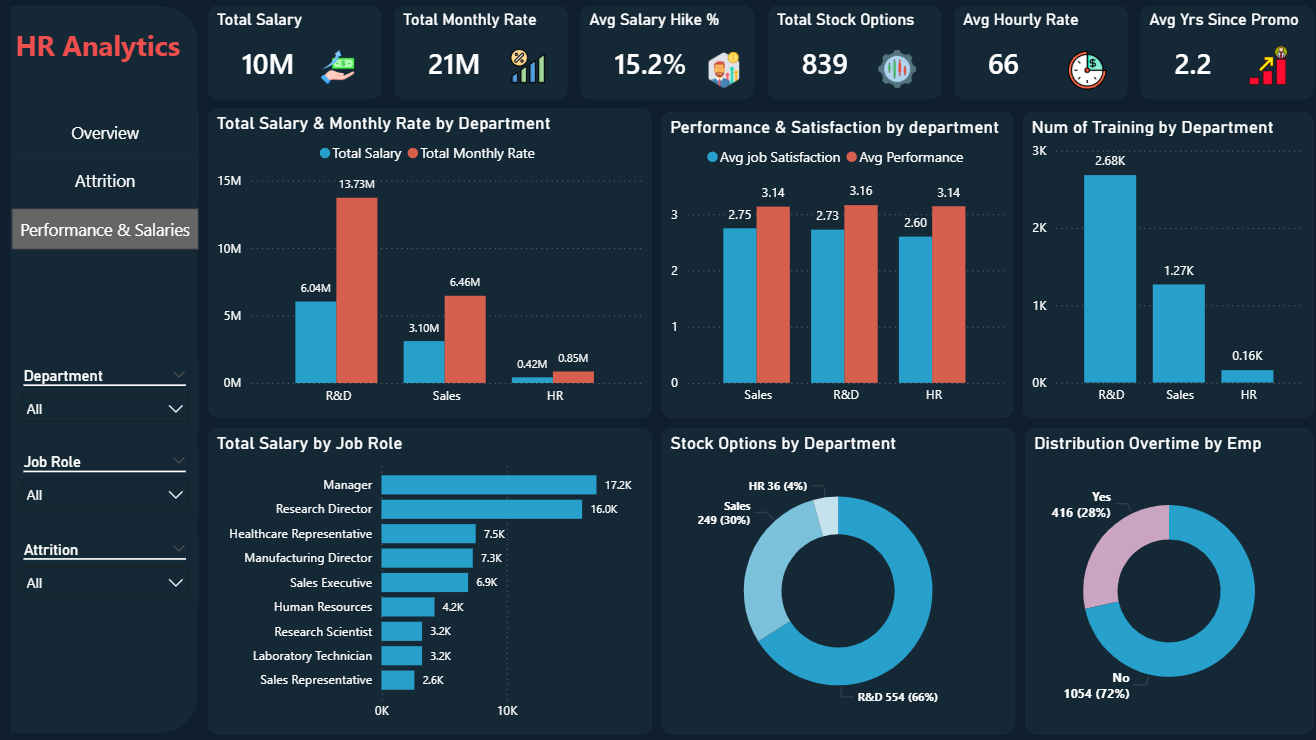

What the dashboard file says about the page in this screenshot:
{"tool":"powerbi","page":{"name":"Performance & Salaries","canvas":[1280,720],"ordinal":2},"visuals":[{"type":"cardVisual","title":"Total Salary","fields":{"Data":["_Measures 2.Total Salary"]},"box":[201.4,8.5,167.8,90],"z":0,"group":"g1"},{"type":"clusteredColumnChart","title":"Total Salary & Monthly Rate by Department","fields":{"Category":["HR.Department"],"Y":["_Measures 2.Total Salary","_Measures 2.Total Monthly Rate"]},"box":[201.2,108,428.4,299.3],"z":0},{"type":"cardVisual","title":"Total Monthly Rate","fields":{"Data":["_Measures 2.Total Monthly Rate"]},"box":[381.5,8.5,167.8,90],"z":1000,"group":"g1"},{"type":"shape","box":[11.2,8.8,181.2,702.5],"z":1000},{"type":"cardVisual","title":"Avg Salary Hike %","fields":{"Data":["_Measures 2.Avg Salary Hike %"]},"box":[561.6,8.5,167.8,90],"z":2000,"group":"g1"},{"type":"textbox","box":[10.9,22.9,171.4,61.6],"z":2000},{"type":"cardVisual","title":"Total Stock Options","fields":{"Data":["CountNonNull(HR.Stock Option Level)"]},"box":[741.7,8.5,167.8,90],"z":3000,"group":"g1"},{"type":"actionButton","box":[12.1,111.1,181.1,39.8],"z":3000},{"type":"cardVisual","title":"Avg Hourly Rate","fields":{"Data":["Avg(HR.Hourly Rate)"]},"box":[921.7,8.5,167.8,90],"z":4000,"group":"g1"},{"type":"actionButton","box":[12.1,156.9,181.1,39.8],"z":4000},{"type":"cardVisual","title":"Avg Yrs Since Promo","fields":{"Data":["_Measures 2.Avg Years Since Last Promotion"]},"box":[1101.8,8.5,168,90.5],"z":5000,"group":"g1"},{"type":"actionButton","box":[12.1,204,181.1,39.8],"z":5000},{"type":"slicer","fields":{"Values":["HR.Department"]},"box":[10.9,352.5,182.3,64],"z":6000},{"type":"slicer","fields":{"Values":["HR.Job Role"]},"box":[10.9,435.8,182.3,64],"z":7000},{"type":"slicer","fields":{"Values":["HR.Attrition"]},"box":[10.9,520.3,182.3,64],"z":8000},{"type":"donutChart","title":"Stock Options by Department","fields":{"Category":["HR.Department"],"Y":["CountNonNull(HR.Stock Option Level)"]},"box":[639.5,416,341.5,295.5],"z":9000},{"type":"clusteredColumnChart","title":"Performance & Satisfaction by department","fields":{"Category":["HR.Department"],"Y":["_Measures.Avg JS","_Measures 2.Avg Performance Rating"]},"box":[639.5,110.5,340.2,295.5],"z":10000},{"type":"barChart","title":"Total Salary by Job Role","fields":{"Category":["HR.Job Role"],"Y":["_Measures 2.Avg Monthly Income"]},"box":[201.2,416,428.4,295.5],"z":11000},{"type":"group","id":"g1","title":"Group 1","box":[201.4,8.5,1068.4,90.5],"z":12000},{"type":"image","box":[291.8,50.9,69.5,34.8],"z":13000},{"type":"donutChart","title":"Distribution Overtime by Emp","fields":{"Y":["_Measures.Total Employees"],"Category":["HR.Over Time"]},"box":[990.9,416,278.2,295.5],"z":14000},{"type":"clusteredColumnChart","title":"Num of Training by Department","fields":{"Category":["HR.Department"],"Y":["Sum(HR.Training Times Last Year)"]},"box":[988.4,110.5,280.6,295.5],"z":15000},{"type":"image","box":[480.6,49.7,59.6,34.8],"z":16000},{"type":"image","box":[681.7,53.4,36,34.8],"z":17000},{"type":"image","box":[844.4,50.9,47.2,37.3],"z":18000},{"type":"image","box":[1026.9,52.2,47.2,37.3],"z":19000},{"type":"image","box":[1202,47.2,47.2,37.3],"z":20000}]}

Visuals, with their boxes in screenshot pixels (x1, y1, x2, y2), scaled from the page's 1280x720 canvas onto the 1316x740 screenshot:
"Total Salary" cardVisual: select_region(207, 9, 380, 101)
"Total Salary & Monthly Rate by Department" clusteredColumnChart: select_region(207, 111, 647, 419)
"Total Monthly Rate" cardVisual: select_region(392, 9, 565, 101)
shape: select_region(12, 9, 198, 731)
"Avg Salary Hike %" cardVisual: select_region(577, 9, 750, 101)
textbox: select_region(11, 24, 187, 87)
"Total Stock Options" cardVisual: select_region(763, 9, 935, 101)
actionButton: select_region(12, 114, 199, 155)
"Avg Hourly Rate" cardVisual: select_region(948, 9, 1120, 101)
actionButton: select_region(12, 161, 199, 202)
"Avg Yrs Since Promo" cardVisual: select_region(1133, 9, 1306, 102)
actionButton: select_region(12, 210, 199, 251)
slicer - HR.Department: select_region(11, 362, 199, 428)
slicer - HR.Job Role: select_region(11, 448, 199, 514)
slicer - HR.Attrition: select_region(11, 535, 199, 601)
"Stock Options by Department" donutChart: select_region(657, 428, 1009, 731)
"Performance & Satisfaction by department" clusteredColumnChart: select_region(657, 114, 1007, 417)
"Total Salary by Job Role" barChart: select_region(207, 428, 647, 731)
"Group 1" group: select_region(207, 9, 1306, 102)
image: select_region(300, 52, 371, 88)
"Distribution Overtime by Emp" donutChart: select_region(1019, 428, 1305, 731)
"Num of Training by Department" clusteredColumnChart: select_region(1016, 114, 1305, 417)
image: select_region(494, 51, 555, 87)
image: select_region(701, 55, 738, 91)
image: select_region(868, 52, 917, 91)
image: select_region(1056, 54, 1104, 92)
image: select_region(1236, 49, 1284, 87)
